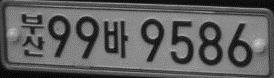5: (170, 20, 193, 64)
6: (227, 23, 253, 67)
8: (197, 21, 223, 65)
9: (74, 15, 100, 58), (47, 14, 71, 58), (140, 18, 164, 62)
바: (103, 20, 128, 59)
부산_V: (20, 13, 45, 57)
